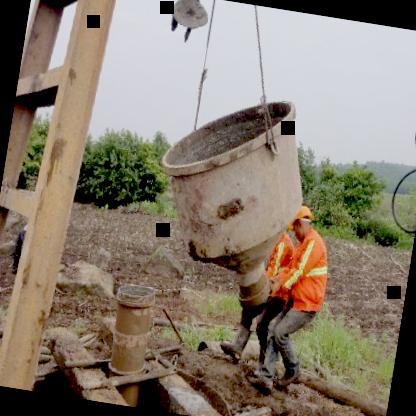helmet: (284, 197, 317, 242)
